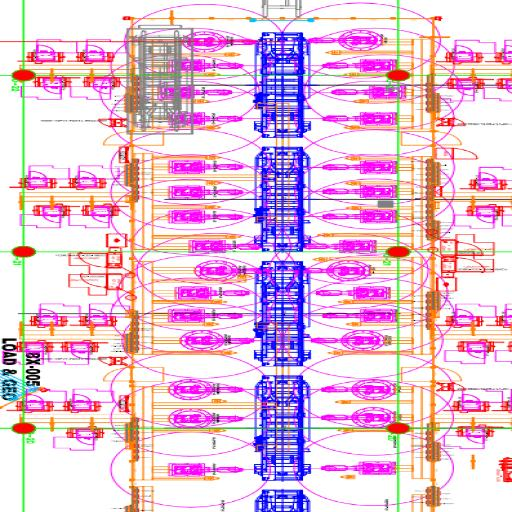robot: (185, 258, 274, 280), (166, 377, 246, 401), (165, 409, 248, 431), (311, 330, 393, 351), (165, 56, 251, 76), (181, 329, 255, 352), (305, 30, 387, 50), (168, 108, 246, 128), (162, 157, 246, 175), (318, 207, 401, 225), (165, 184, 246, 202), (320, 184, 400, 202), (292, 262, 372, 280), (165, 307, 245, 325), (322, 308, 402, 326), (322, 380, 402, 398), (317, 159, 401, 176), (318, 57, 401, 74), (158, 82, 235, 100), (165, 460, 242, 478), (182, 32, 258, 50), (188, 239, 264, 256), (332, 84, 410, 100), (321, 409, 394, 426), (325, 459, 397, 476), (322, 112, 398, 128), (168, 209, 246, 224), (176, 285, 252, 300), (314, 286, 390, 300), (298, 240, 380, 252)
